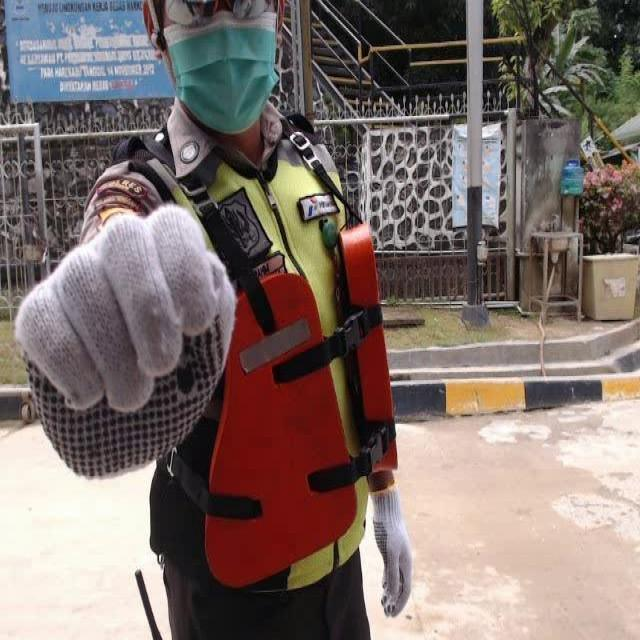vest: (202, 223, 404, 584)
